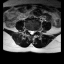CCS_normal: (30, 27, 33, 37)
LFS_normal: (35, 27, 37, 34)
LLS_normal: (33, 28, 35, 35)
RFS_normal: (26, 26, 28, 33)
RLS_normal: (28, 27, 30, 35)
